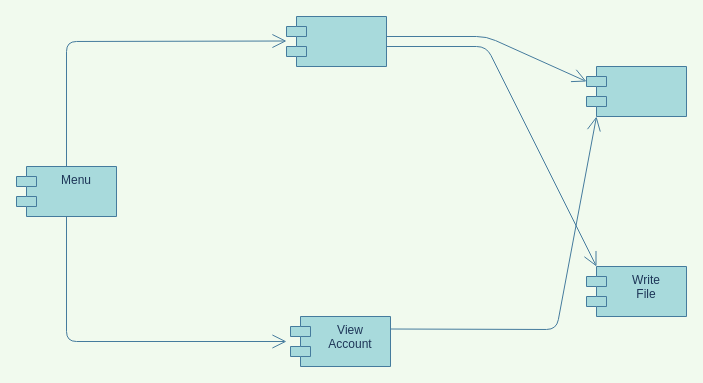
Image size: 703x383. Some labels were removed from this diagram. The shapes that lost their labels are listed below. From the top down, each one's centre as x and y in pixels, then its label:
point (336, 41): Create Account
point (636, 91): Read File
